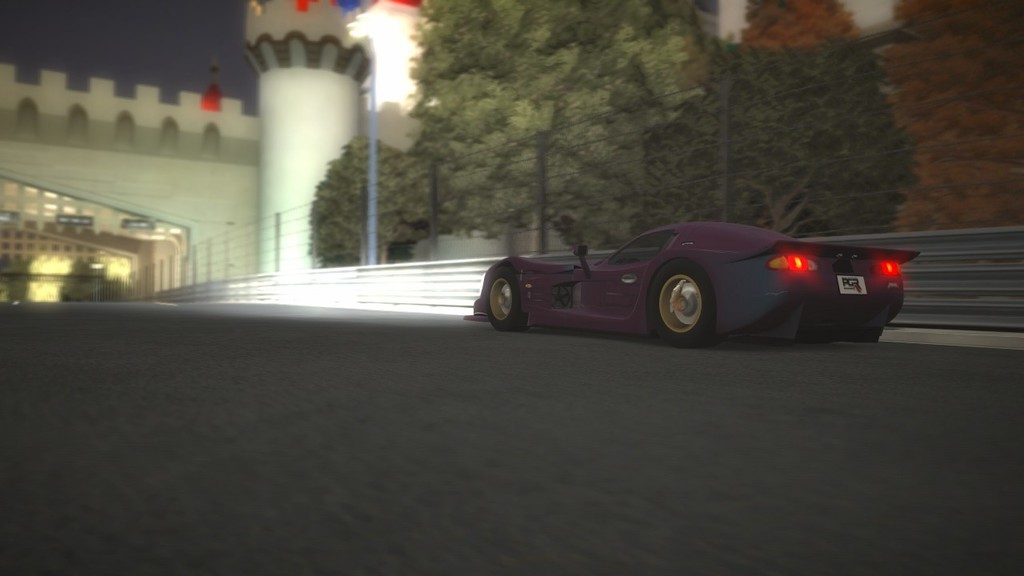car: (451, 193, 926, 365)
